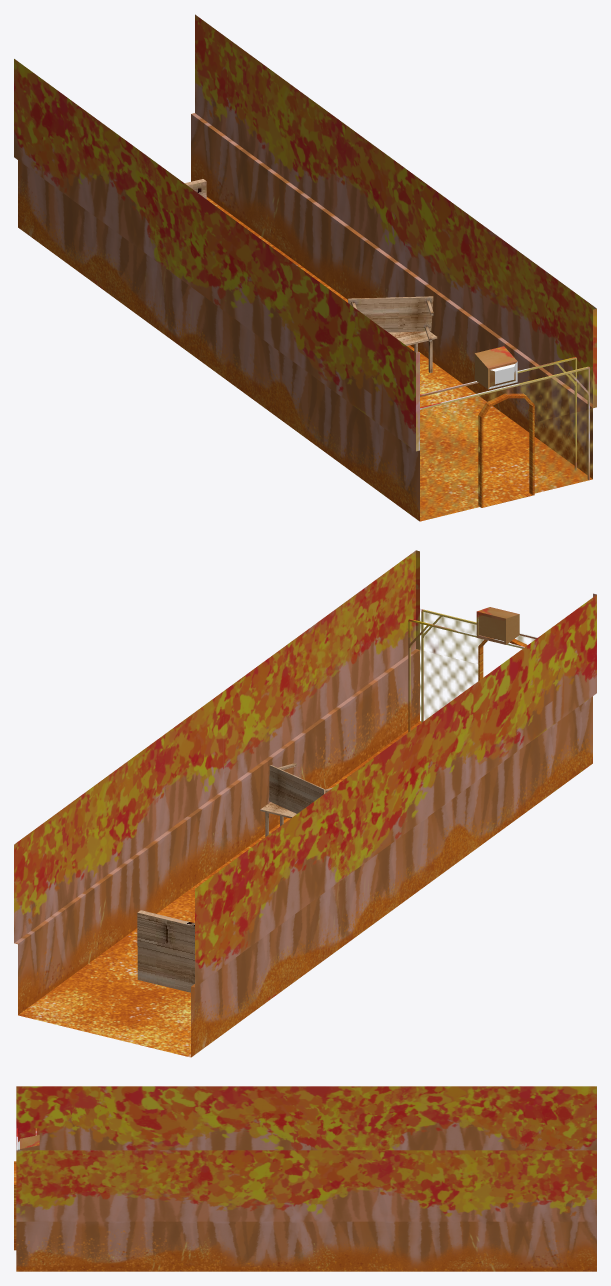
Rendered from corridor4_2.glb.
The picture shows the model from 3 angles, top to bottom: view 1: azimuth 30°, elevation 25°; view 2: azimuth 150°, elevation 25°; view 3: azimuth 270°, elevation 25°; orthographic projection. The views are drawn at different scales.
Parts seen in each view (by area): view 1: corridor_base.004, table_mesh.017; view 2: corridor_base.004, table_mesh.021, table_mesh.017; view 3: corridor_base.004.
Part boxes in pixels (bbox=[...]): corridor_base.004: bbox=[14, 14, 596, 521]; table_mesh.017: bbox=[348, 296, 433, 341]; corridor_base.004: bbox=[14, 550, 596, 1057]; table_mesh.021: bbox=[137, 910, 194, 992]; table_mesh.017: bbox=[269, 763, 332, 813]; corridor_base.004: bbox=[14, 1086, 596, 1271].
Bounding box in the file's own units: 5.18 × 4.65 × 20.
Materials: 2 (2 with a texture image).
